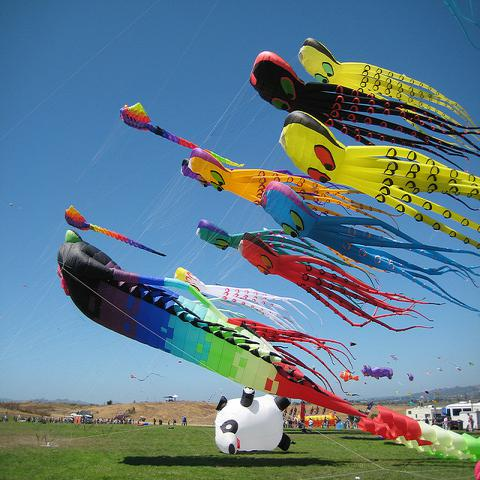truck: (406, 406, 436, 424)
